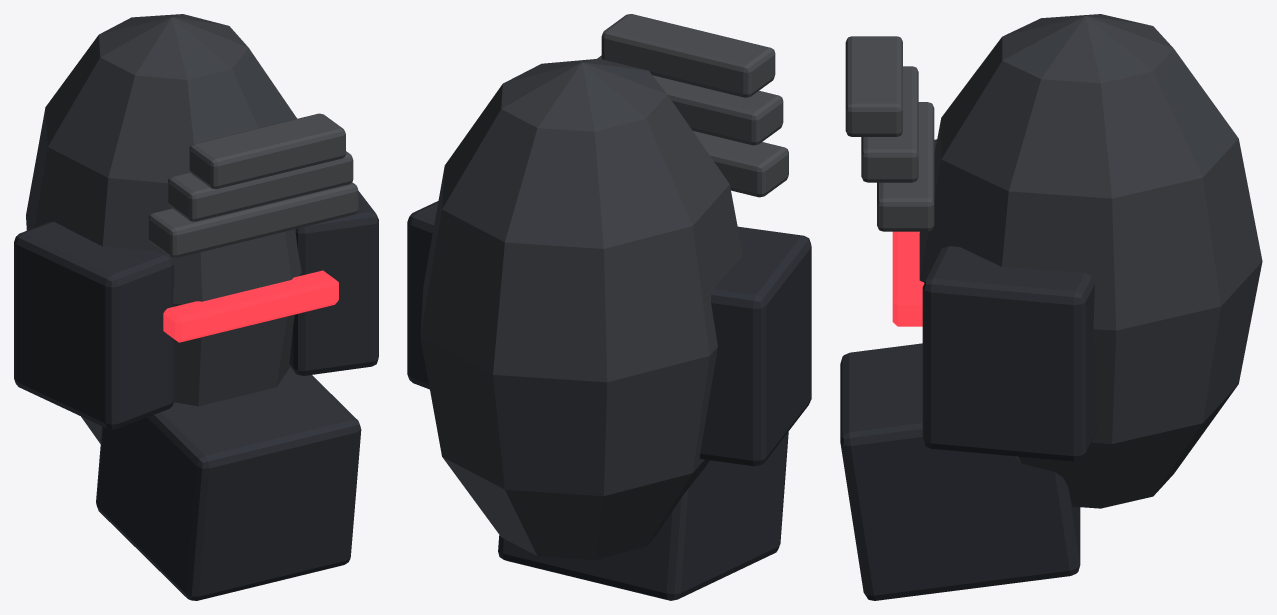
Rendered from hero_head.glb.
3 views of the same model, side by side, from view 1: azimuth 30°, elevation 25°; view 2: azimuth 150°, elevation 25°; view 3: azimuth 270°, elevation 25° (orthographic). The views are drawn at different scales.
Visible parts, largest first — view 1: Skull, Jaw, CheekPlateR, ForeheadLayer2, ForeheadLayer0, Visor, ForeheadLayer1; view 2: Skull, CheekPlateR, Jaw, ForeheadLayer2, ForeheadLayer1, ForeheadLayer0; view 3: Skull, Jaw, CheekPlateR, ForeheadLayer2, ForeheadLayer0, ForeheadLayer1, Visor.
Boxes of the visible parts, box(x1,y1,x2,y2) form: Skull: box(26, 14, 301, 443); Jaw: box(96, 367, 361, 600); CheekPlateR: box(14, 191, 378, 429); ForeheadLayer2: box(189, 113, 345, 189); ForeheadLayer0: box(148, 182, 358, 258); Visor: box(163, 270, 338, 342); ForeheadLayer1: box(168, 151, 353, 221); Skull: box(420, 58, 742, 559); CheekPlateR: box(407, 201, 811, 466); Jaw: box(498, 432, 788, 600); ForeheadLayer2: box(601, 14, 775, 97); ForeheadLayer1: box(597, 55, 783, 145); ForeheadLayer0: box(693, 131, 788, 197); Skull: box(919, 14, 1262, 508); Jaw: box(840, 343, 1080, 600); CheekPlateR: box(922, 139, 1097, 461); ForeheadLayer2: box(845, 36, 902, 136); ForeheadLayer0: box(877, 102, 934, 231); ForeheadLayer1: box(861, 66, 918, 182); Visor: box(892, 231, 924, 326).
Bounding box in the file's own units: 0.7841 × 1.15 × 0.8102.
